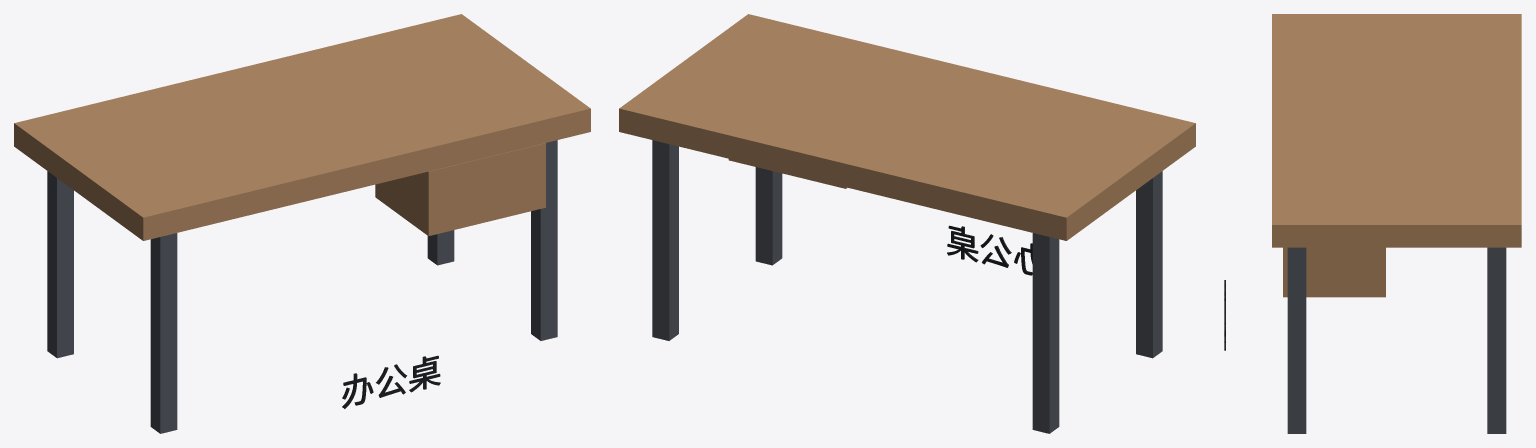
Rendered from asset_desk.glb.
3 renders of one model, left to right at view 1: azimuth 30°, elevation 25°; view 2: azimuth 150°, elevation 25°; view 3: azimuth 270°, elevation 25°, orthographic. The views are drawn at different scales.
Visible parts, largest first — view 1: desktop, drawer, leg, leg.001, leg.002, asset_label, leg.003; view 2: desktop, leg.001, leg.003, leg, leg.002, asset_label; view 3: desktop, drawer, leg.003, leg.002.
Part boxes in pixels (box(x1,y1,x2,y2)): desktop: box(14, 14, 590, 240); drawer: box(375, 143, 545, 236); leg: box(150, 233, 177, 433); leg.001: box(47, 171, 73, 358); leg.002: box(531, 140, 557, 340); asset_label: box(342, 355, 440, 408); leg.003: box(427, 230, 454, 265); desktop: box(619, 14, 1195, 240); leg.001: box(1032, 233, 1059, 433); leg.003: box(652, 140, 678, 340); leg: box(1136, 171, 1162, 358); leg.002: box(755, 167, 782, 265); asset_label: box(947, 225, 1032, 275); desktop: box(1272, 14, 1521, 247); drawer: box(1283, 247, 1385, 297); leg.003: box(1487, 247, 1506, 433); leg.002: box(1287, 247, 1306, 433).
Bounding box in the file's own units: 1.6 × 0.78 × 0.953.
